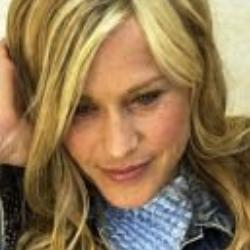face: (5, 1, 245, 211)
